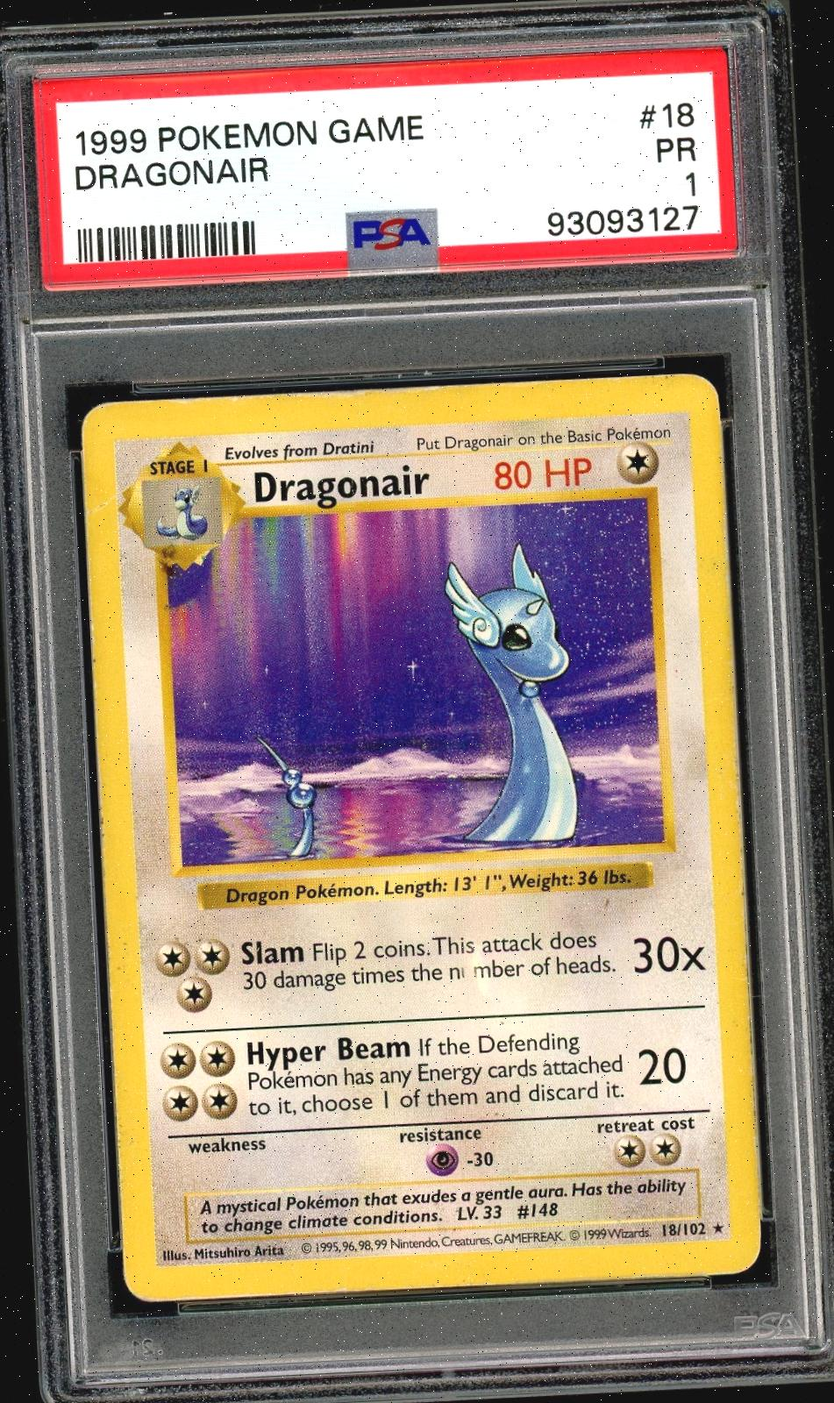card-2UtV: (80, 371, 762, 1303)
